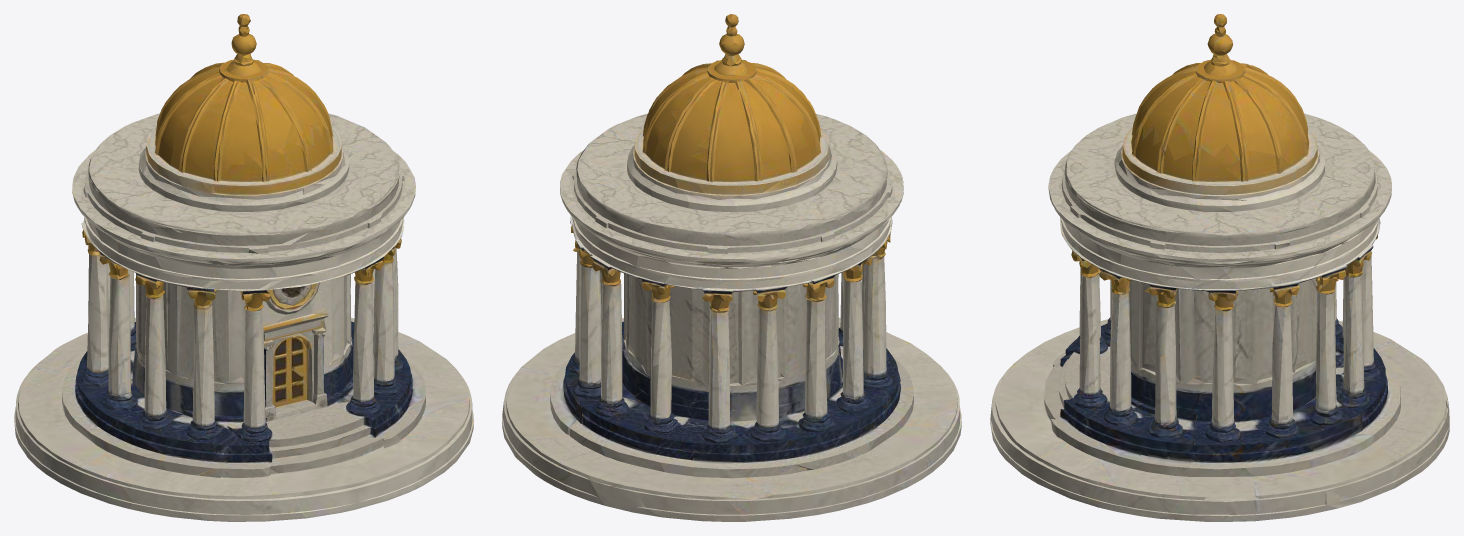
File: hub_grand_exchange.glb
3 views of the same model, side by side, from view 1: azimuth 30°, elevation 25°; view 2: azimuth 150°, elevation 25°; view 3: azimuth 270°, elevation 25° (orthographic).
Size of the model in its own units: 1.9 by 1.88 by 1.9.
1 material, 1 textured.
